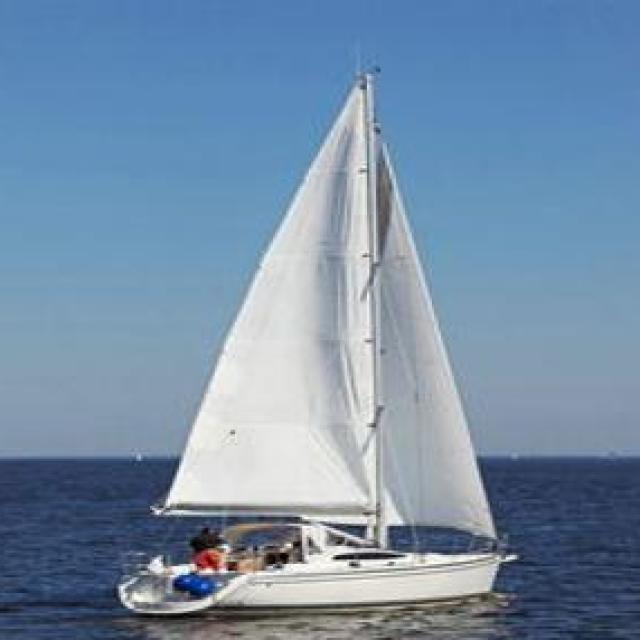sailboat: (114, 60, 506, 619)
